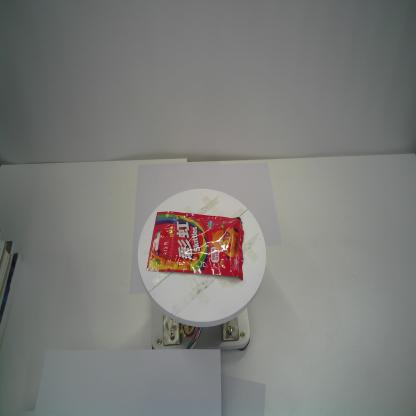Candy: (146, 210, 244, 282)
